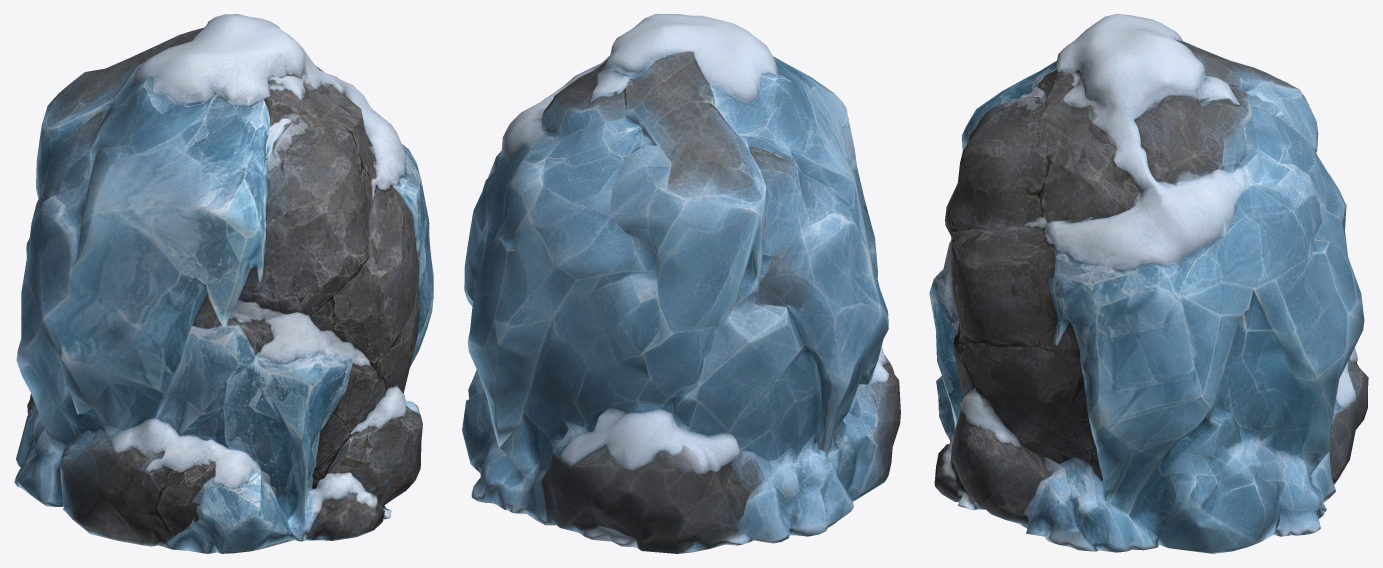
File: crypte_decor_rocher.glb
3 views of the same model, side by side, from view 1: azimuth 30°, elevation 25°; view 2: azimuth 150°, elevation 25°; view 3: azimuth 270°, elevation 25° (orthographic).
Bounding box in the file's own units: 0.8662 × 0.9531 × 0.8594.
Materials: 1 (1 with a texture image).
